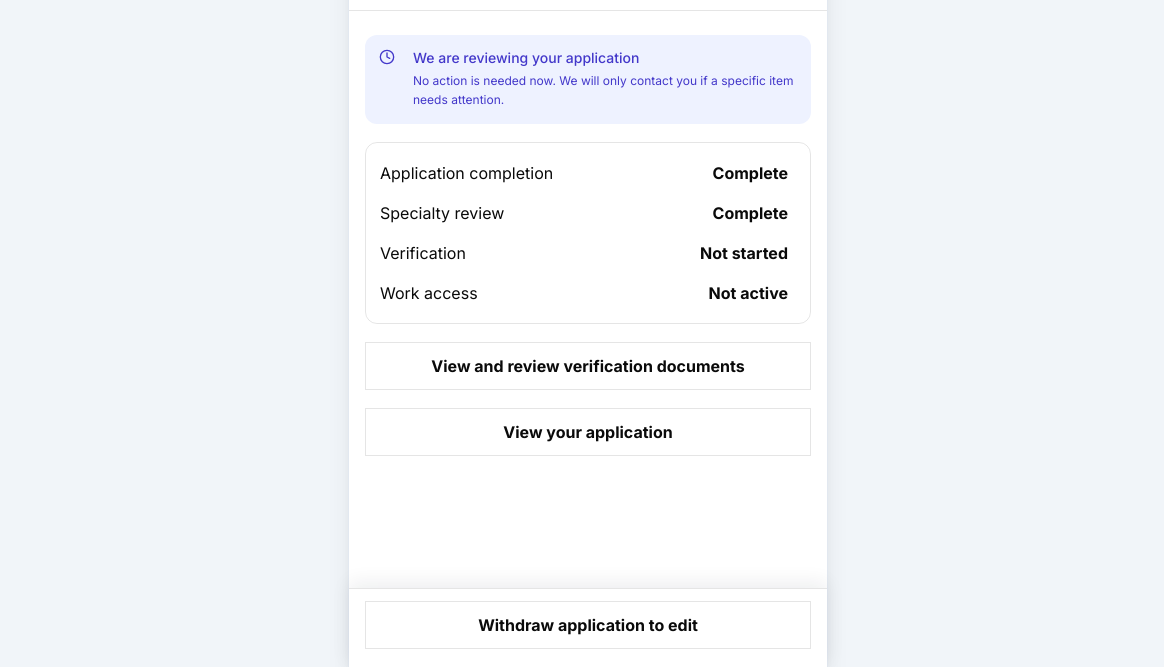
Test: document entry follows the verification task › keeps verification reachable when the case needs provider attention: null
Click the button with test id "status-view-verification" at (588, 366), box [365,342,811,390]
(page scrolled)
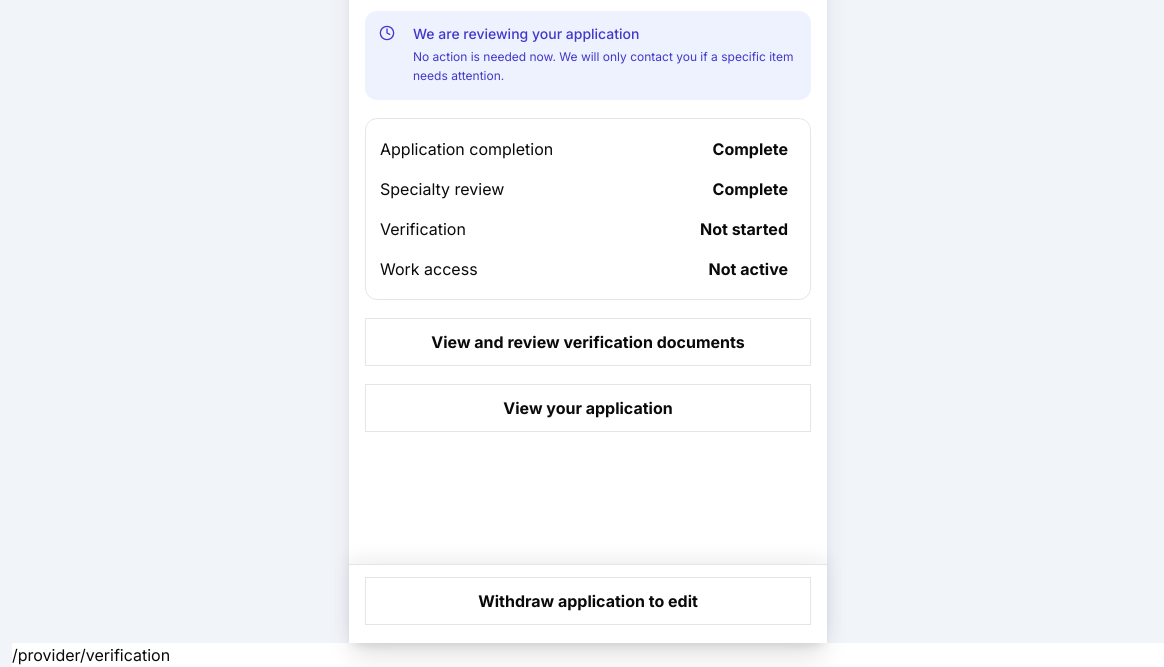
Expected: the text with test id "status-current-route" reads "/provider/verification", [12,645,170,665]
